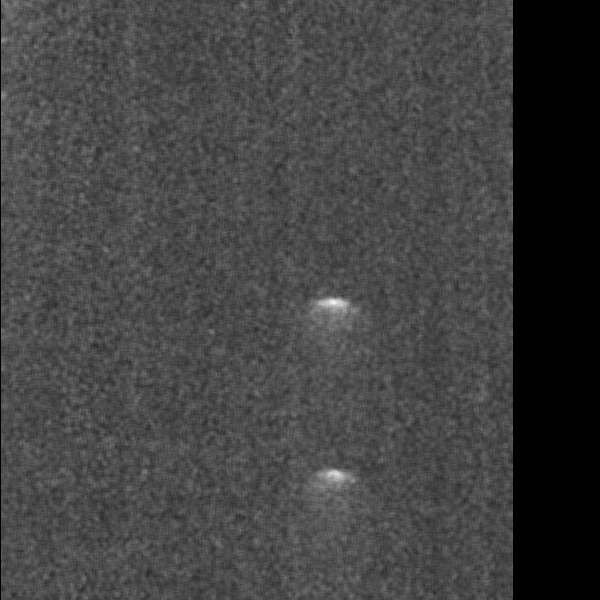spark: (439, 84, 490, 154), (300, 525, 338, 597), (444, 267, 484, 334), (380, 456, 450, 494), (289, 362, 352, 393), (387, 199, 444, 231), (86, 345, 130, 386), (137, 523, 174, 553), (49, 425, 71, 462), (416, 29, 451, 49), (383, 417, 411, 436), (106, 395, 132, 408)
